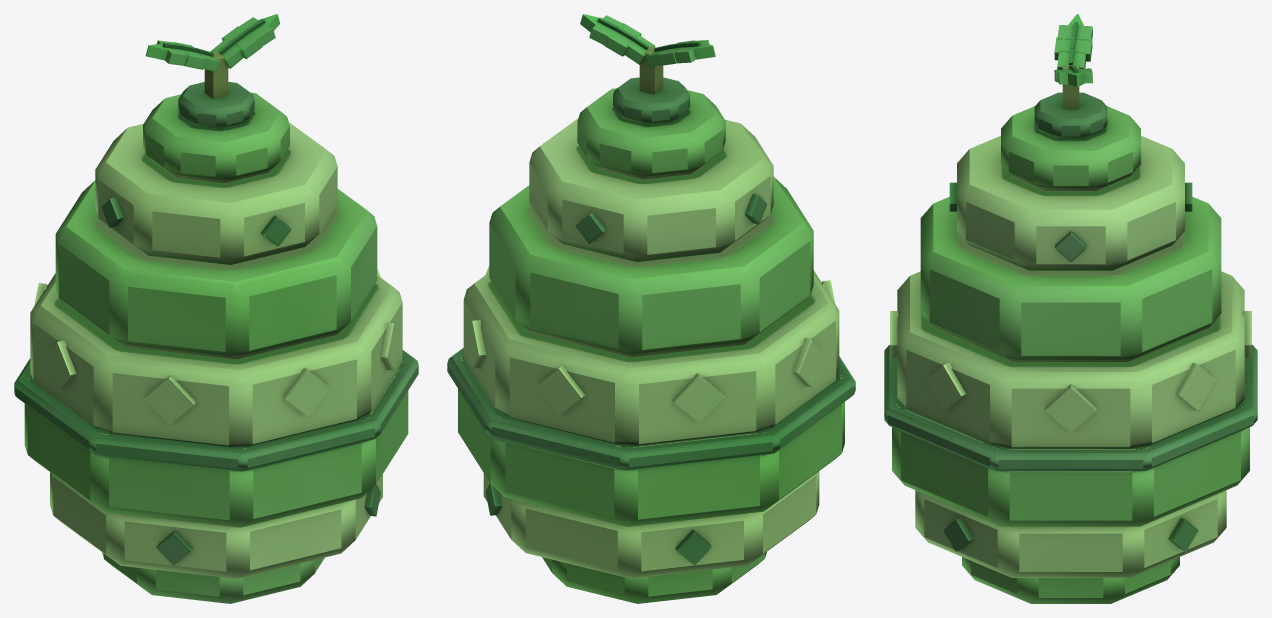
File: OeufInhabituel_Rig.fbx
3 renders of one model, left to right at view 1: azimuth 30°, elevation 25°; view 2: azimuth 150°, elevation 25°; view 3: azimuth 270°, elevation 25°, orthographic. The views are drawn at different scales.
Parts seen in each view (by area): view 1: Top, Middle, Upper, Lower, Bottom; view 2: Top, Middle, Upper, Lower, Bottom; view 3: Top, Middle, Upper, Lower, Bottom.
Part boxes in pixels (bbox=[...]): Top: bbox=[95, 14, 337, 264]; Middle: bbox=[30, 268, 402, 447]; Upper: bbox=[55, 180, 377, 359]; Lower: bbox=[14, 350, 418, 527]; Bottom: bbox=[50, 472, 382, 603]; Top: bbox=[529, 14, 773, 261]; Middle: bbox=[463, 265, 839, 445]; Upper: bbox=[489, 177, 813, 357]; Lower: bbox=[447, 348, 855, 526]; Bottom: bbox=[483, 471, 819, 603]; Top: bbox=[949, 14, 1192, 270]; Middle: bbox=[890, 271, 1251, 448]; Upper: bbox=[920, 197, 1221, 361]; Lower: bbox=[884, 344, 1257, 526]; Bottom: bbox=[915, 490, 1226, 603].
Bounding box in the file's own units: 3.92 × 6 × 3.92.
1 material, 1 textured.
